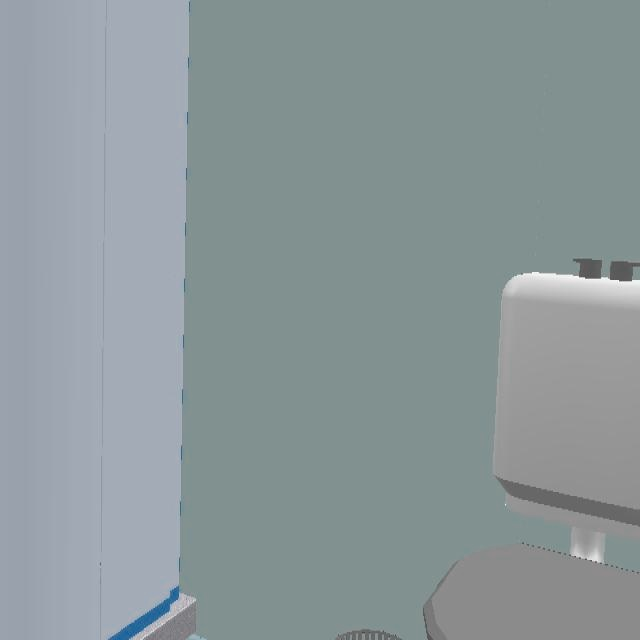toilet: (423, 273, 640, 640)
